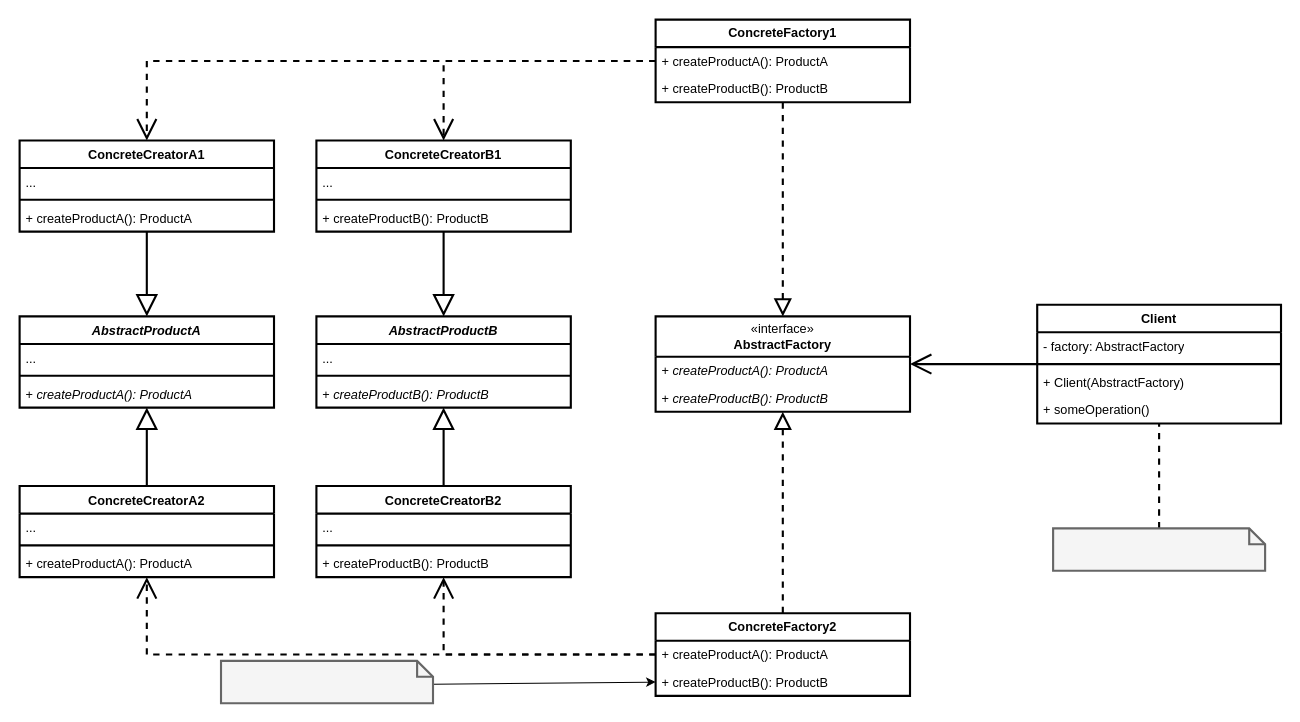
This 1300x722 diagram has some shape labels left out. The centre of each missing label's shape, as x and y in pixels:
Product pa = factory.createProductA(): (x=1159, y=549)
return new ConcreteProductA(): (x=326, y=681)
